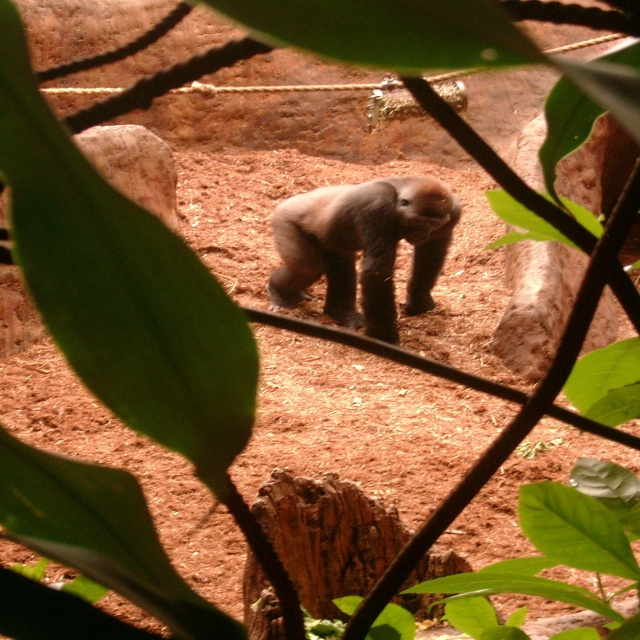Monkey: (242, 166, 477, 329)
